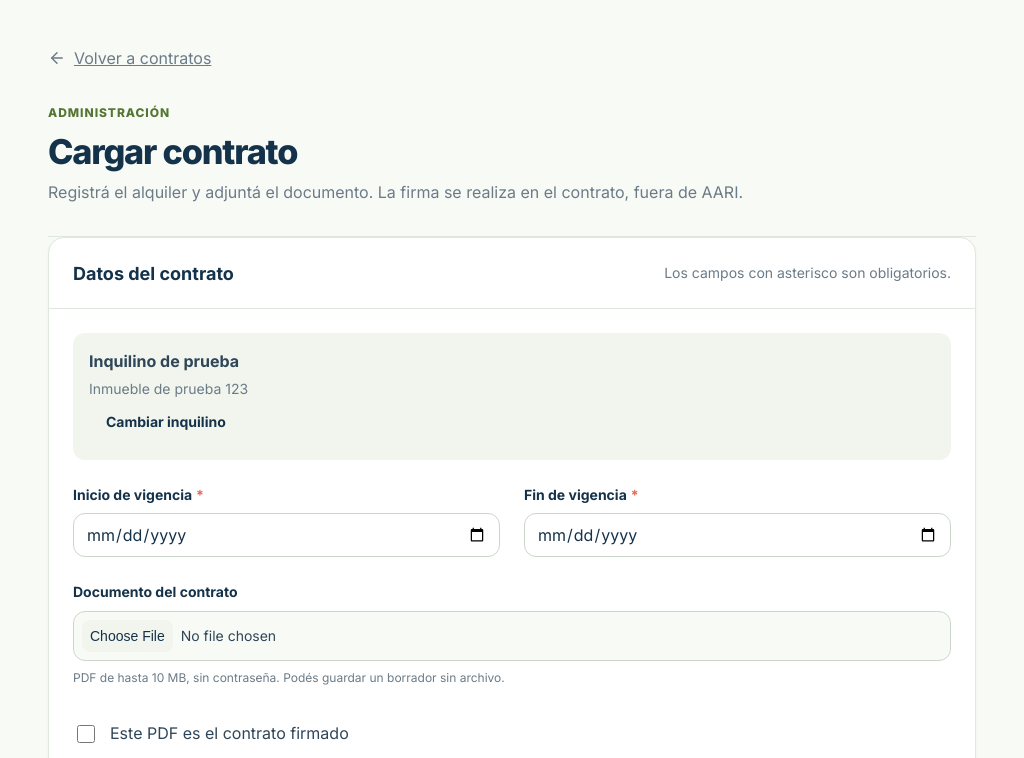
Test: contratos: validaciones y formularios › guarda borrador sin archivo y no pide fecha de firma
Type "2026-09-01" into the date field labelled "Inicio de vigencia*" at point(286, 535), box [73,513,500,557]
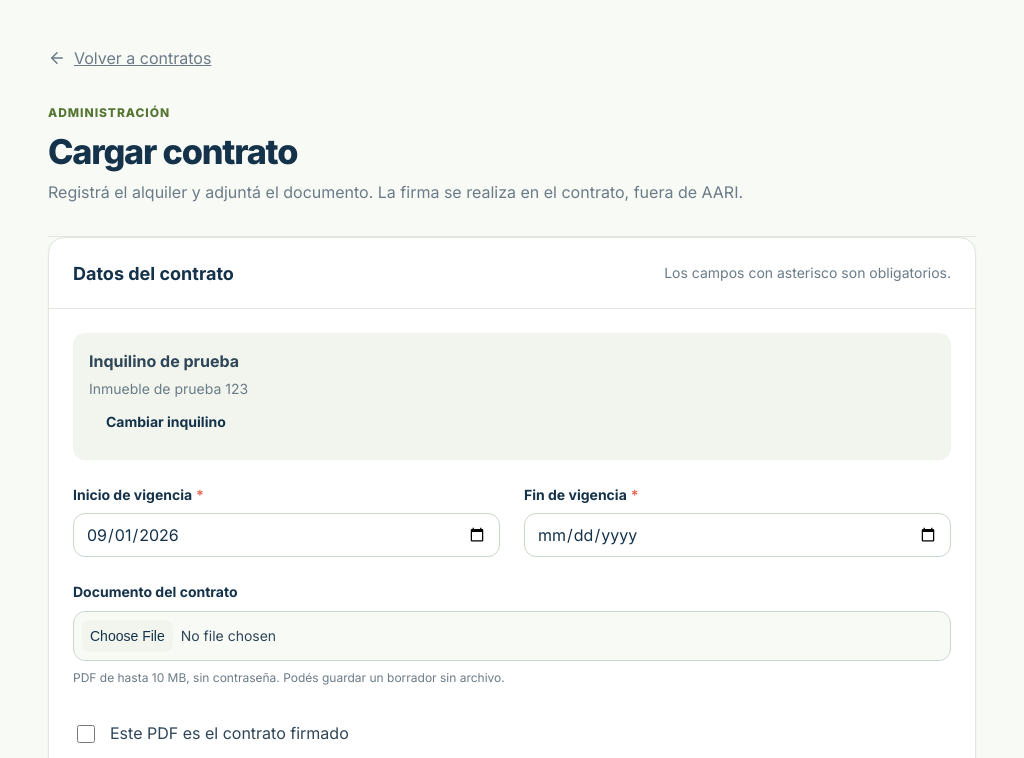
Type "2027-08-31" into the date field labelled "Fin de vigencia*" at point(738, 535), box [524,513,951,557]
(page scrolled)
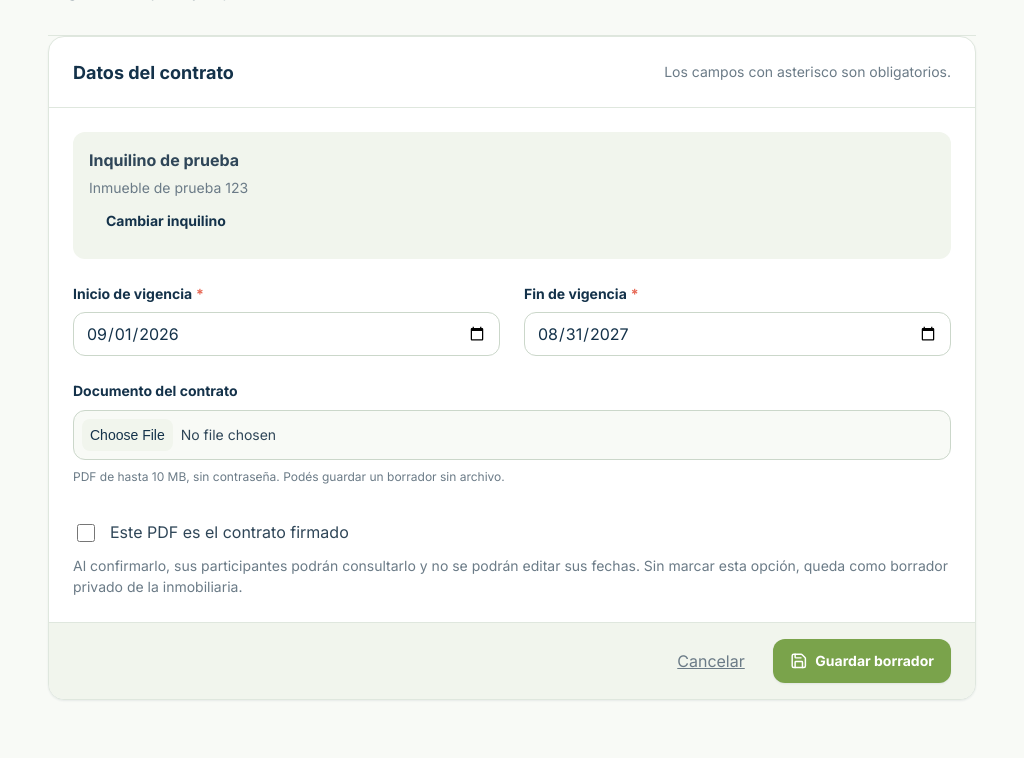
Click the button "Guardar borrador" at point(862, 661), box [773,639,951,683]
(page scrolled)
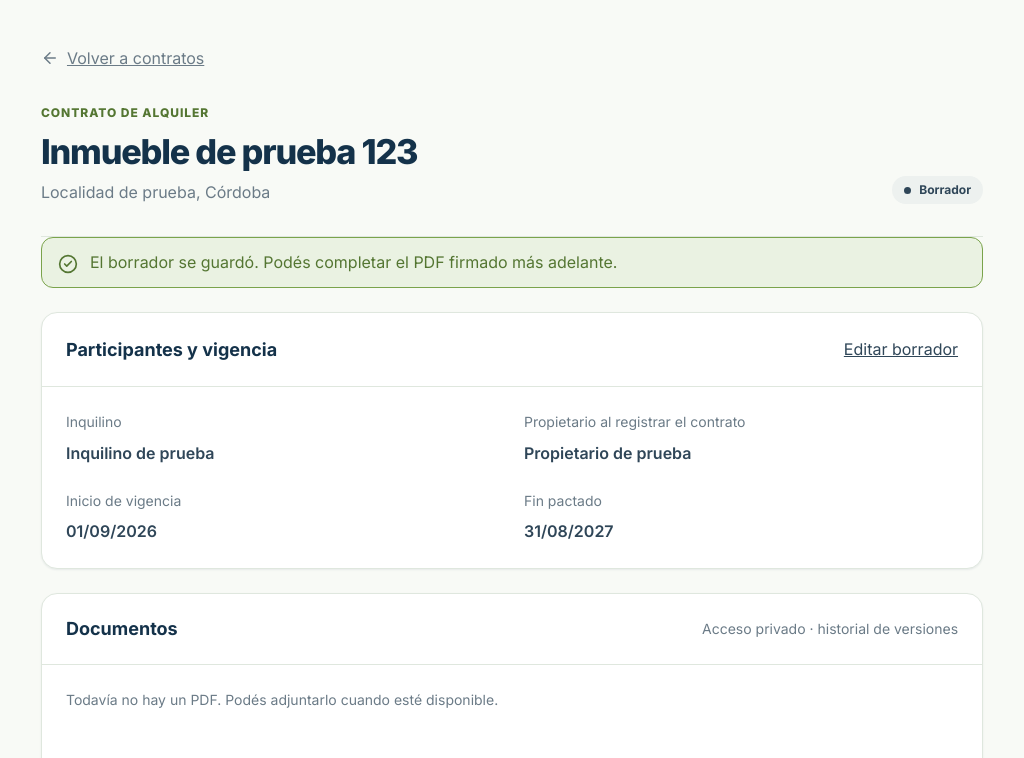
Result: the text "El borrador se guardó. Podés completar el PDF firmado más adelante." is shown at [90,250,618,275]
